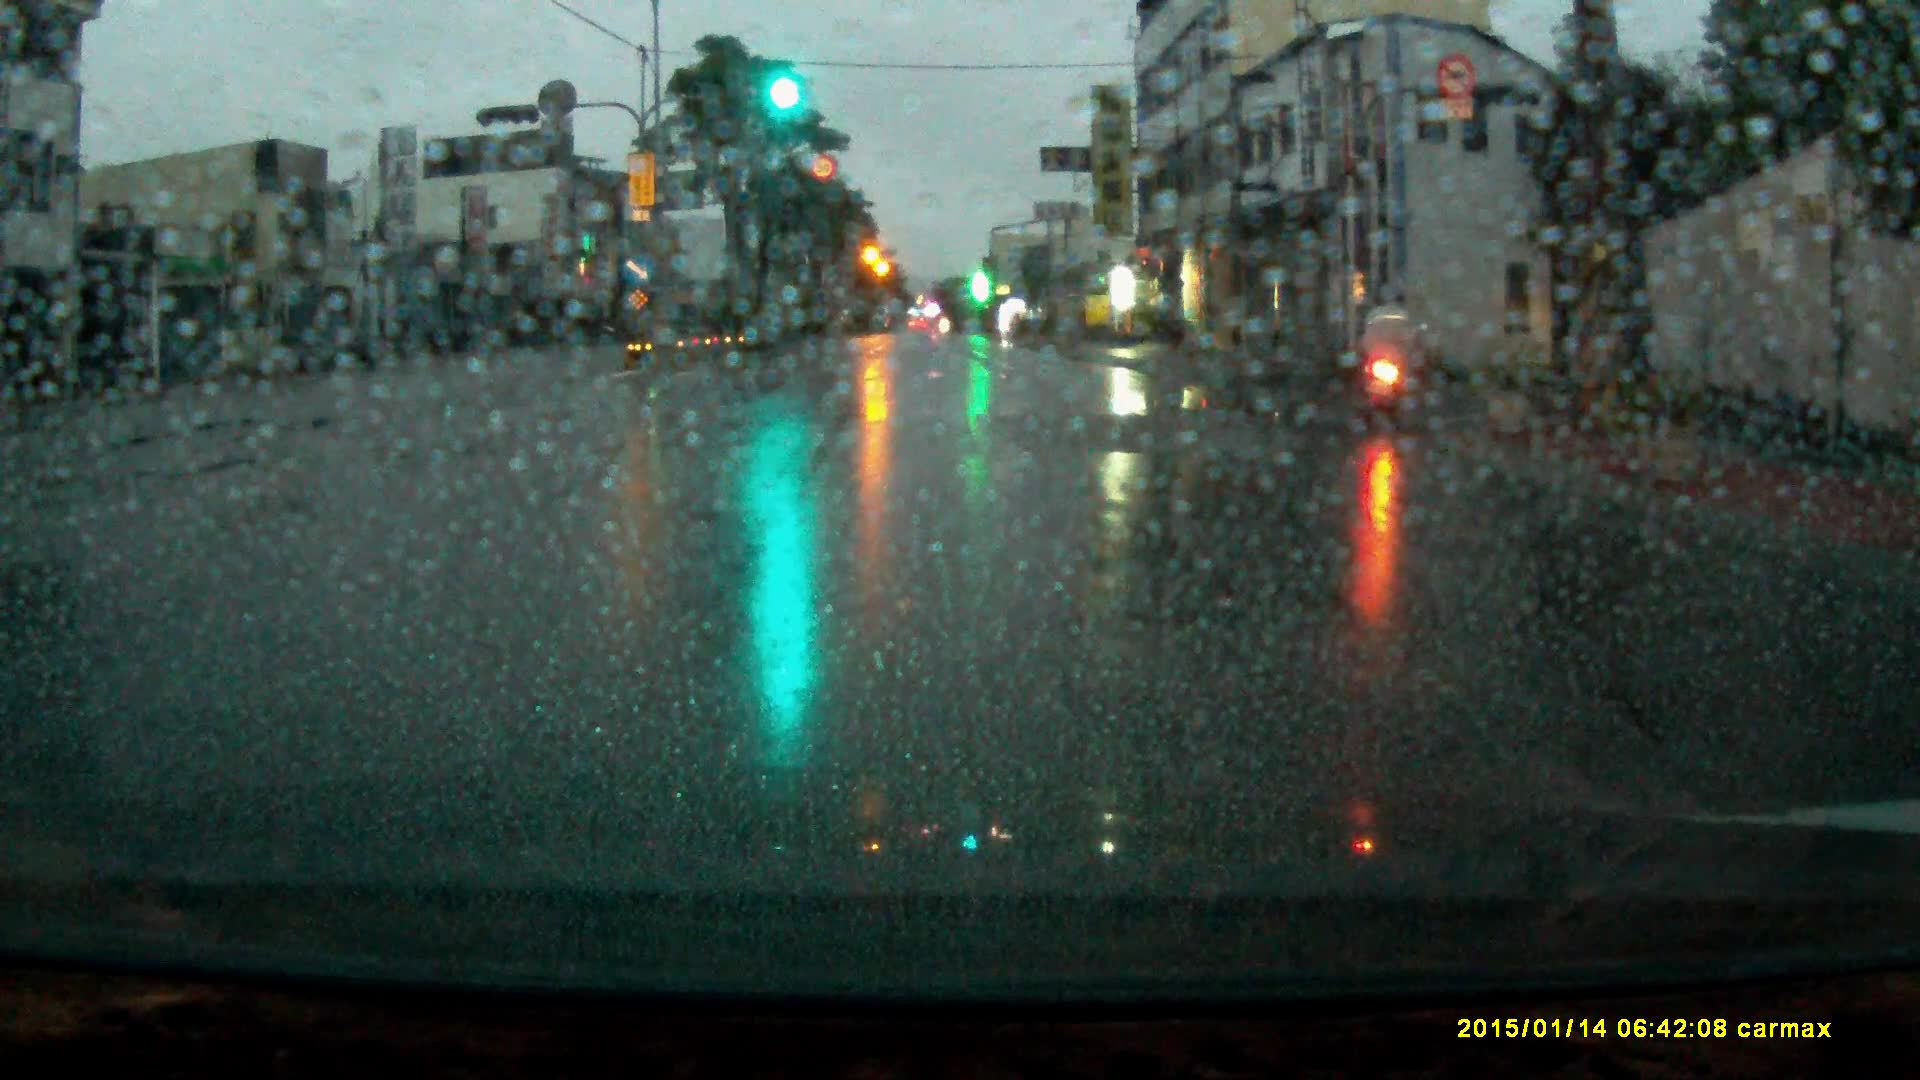rider: (1351, 287, 1436, 422)
